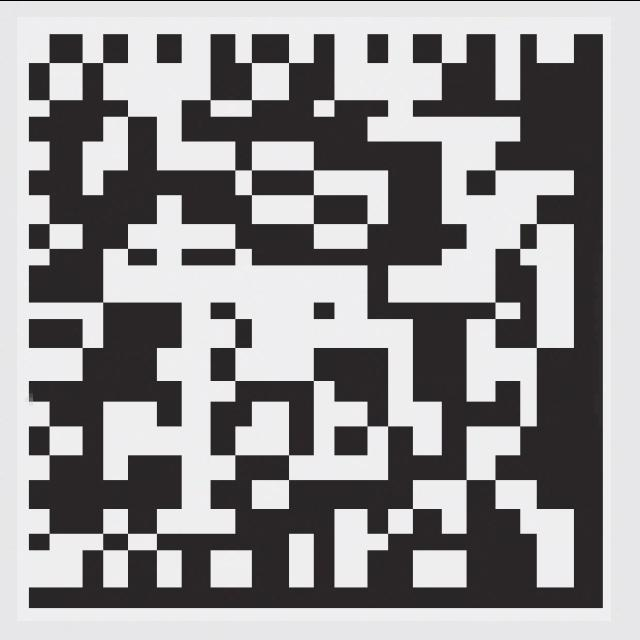DataMatrix: (17, 16, 611, 620)
